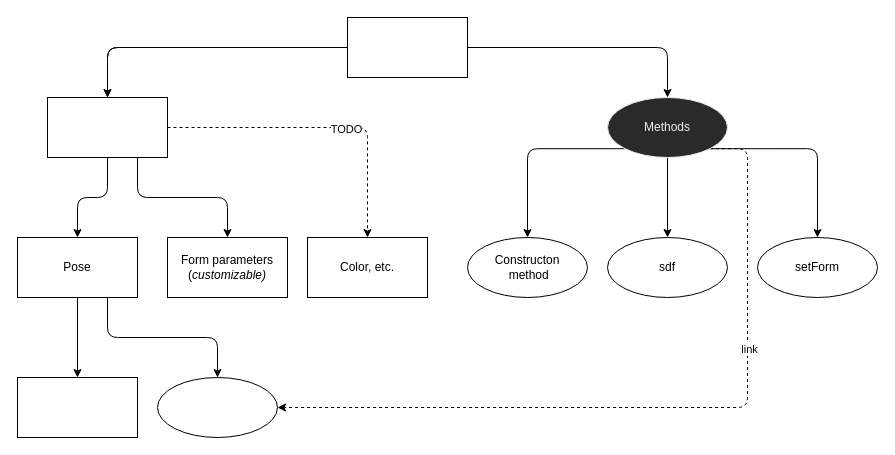
This 895x455 diagram has some shape labels left out. Each missing label, with the centre of its shape:
location and orientation (x,y,a): the point at 77,407
Properties: the point at 107,127
setPose: the point at 217,407
Shape: the point at 407,47
